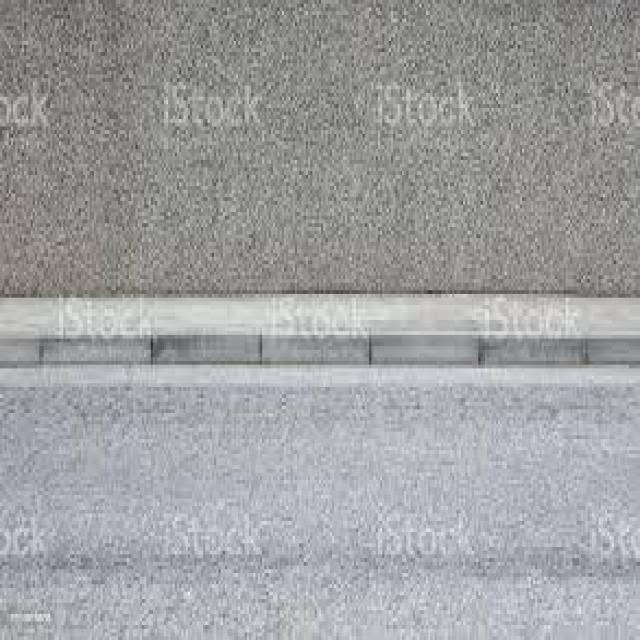curb: (1, 299, 640, 366)
